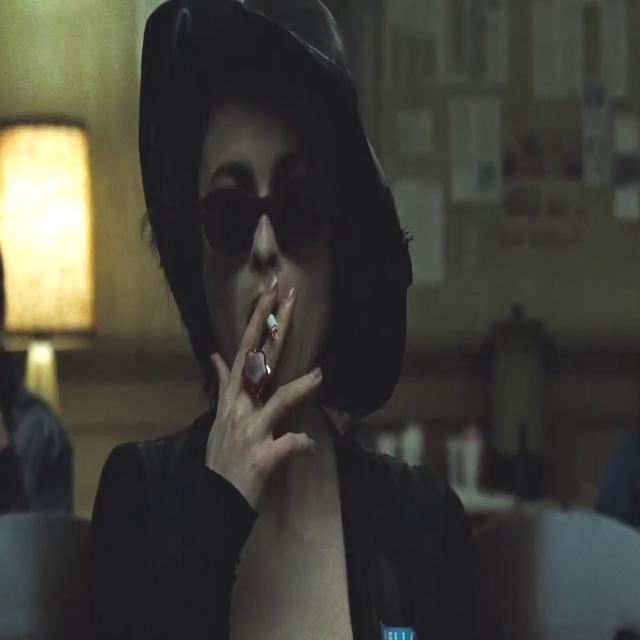Smooking: (256, 304, 290, 352)
